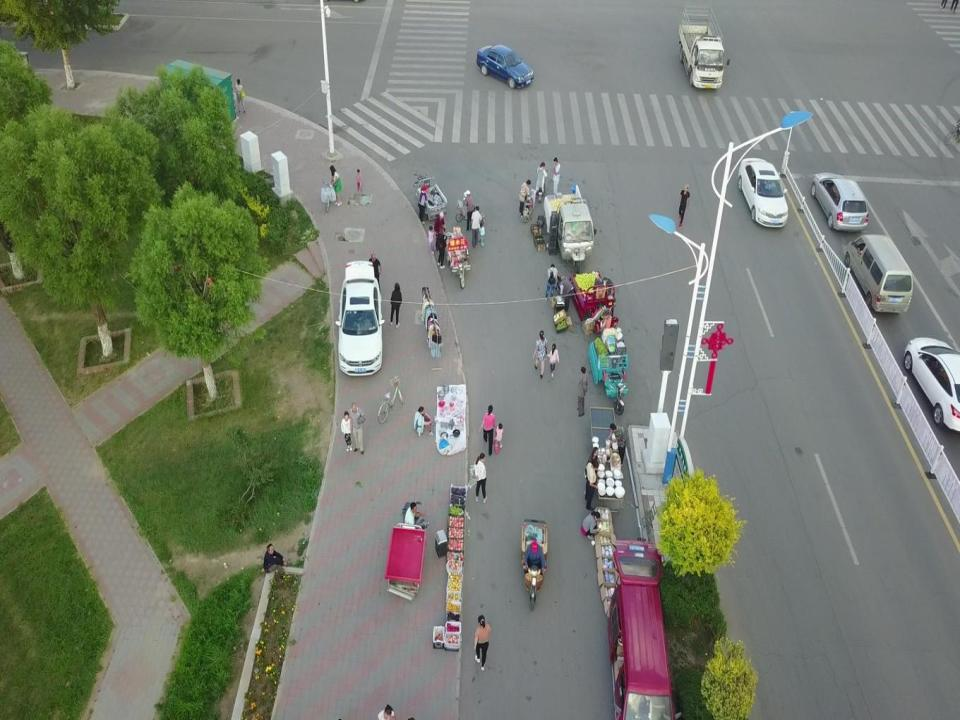car: (606, 538, 676, 720), (340, 260, 384, 377), (902, 336, 955, 430), (810, 168, 869, 232), (738, 157, 790, 229), (477, 44, 535, 90)
truck: (678, 5, 730, 92)
van: (844, 234, 914, 314)
